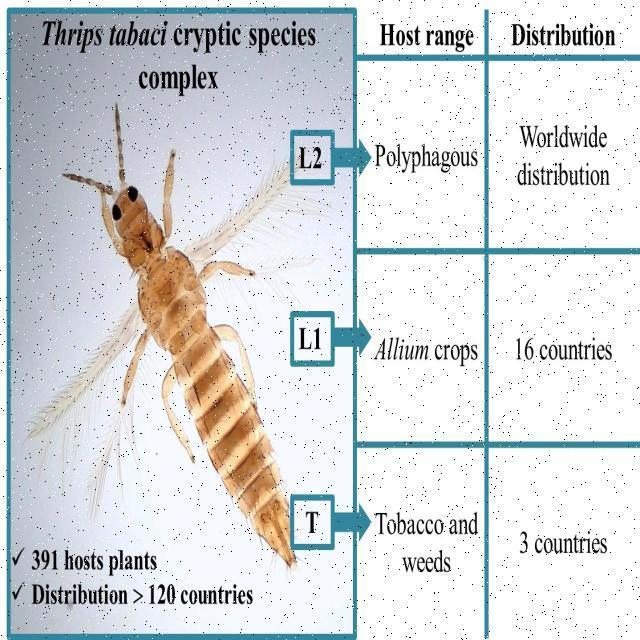Thrips: (32, 109, 317, 561)
